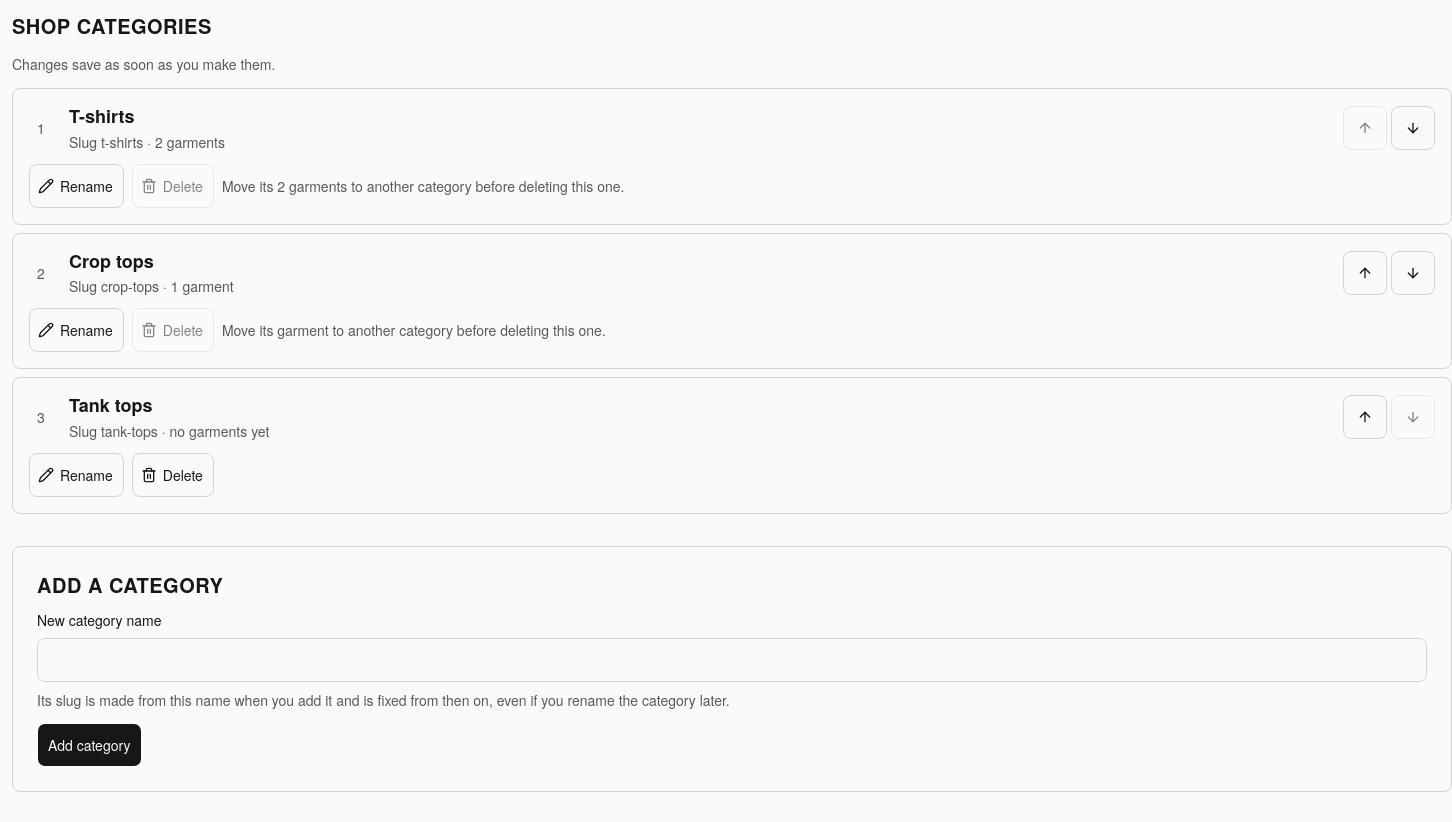
Test case: CategoryManager › reordering › restores the order after a failure with nothing to read without offering a reload
Click the button named "Move Crop tops down".
click(1413, 273)  # box top-left (1391, 251), bottom-right (1435, 295)
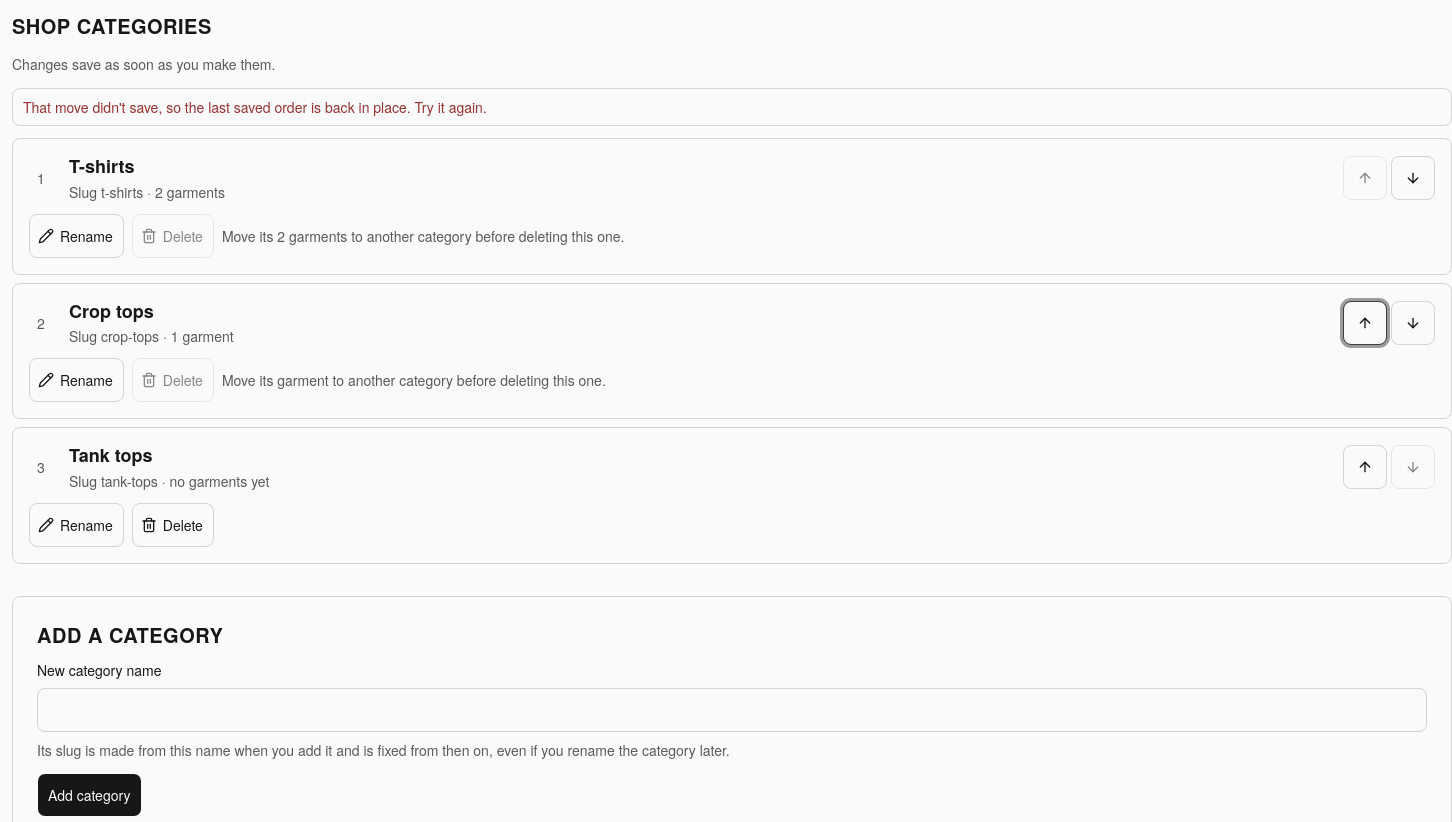
Check: the message shows "last saved order is back in place", box top-left (23, 97), bottom-right (487, 117)
